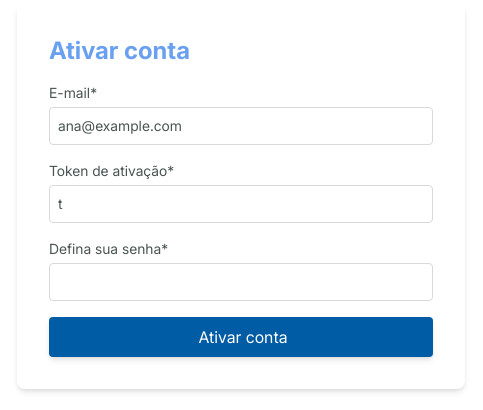
account recovery journeys › activates an account from the activation link
Type "SenhaSegura1!" into the password field labelled "Defina sua senha*". click: (241, 282)
box: x1=49 y1=263 x2=433 y2=301
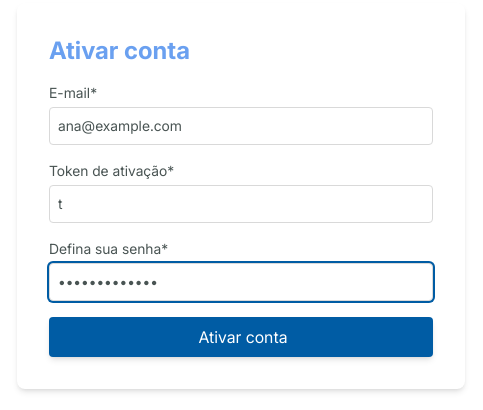
Click the button "Ativar conta". click: (241, 337)
box: x1=49 y1=317 x2=433 y2=357
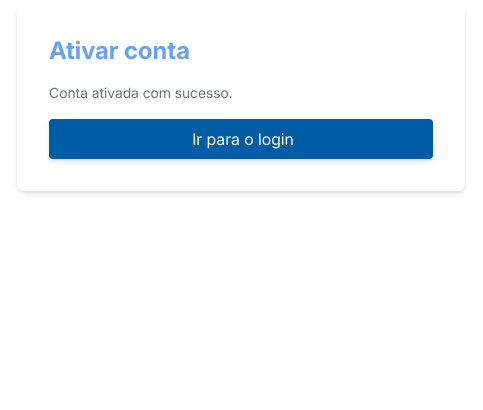
Check: the text "Conta ativada com sucesso." is shown, box x1=49 y1=84 x2=232 y2=101
